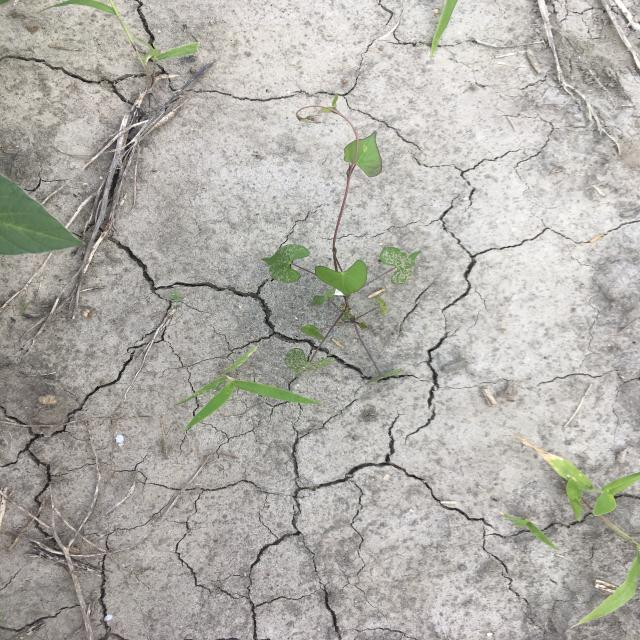MorningGlory: (260, 91, 425, 385)
